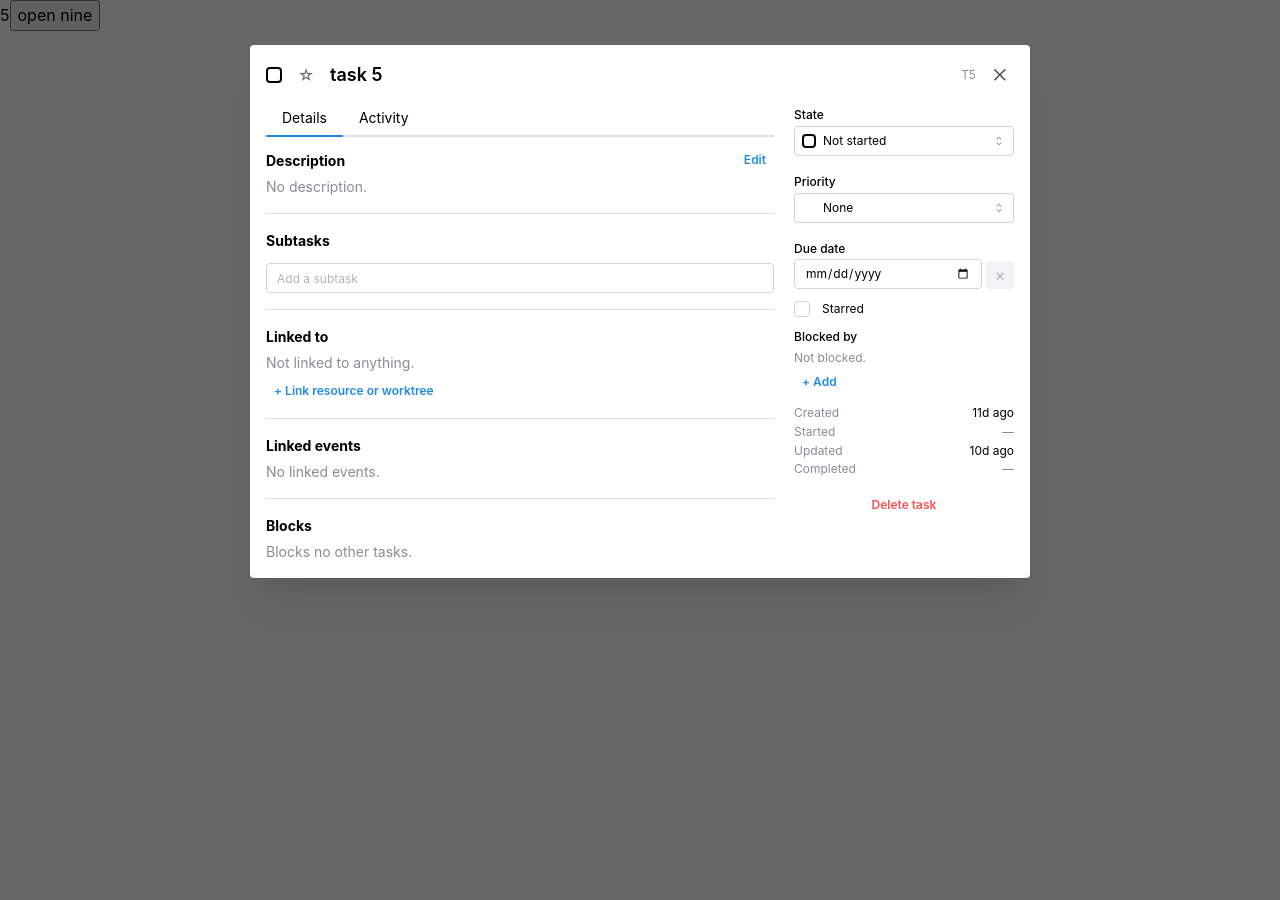
Scenario: TaskDetailModal › saves the title on Enter and shows it at once
This screenshot has width=1280, height=900.
Step 1. Click the button with aria-label "Edit title" → click(356, 75), box [330,61,951,89]
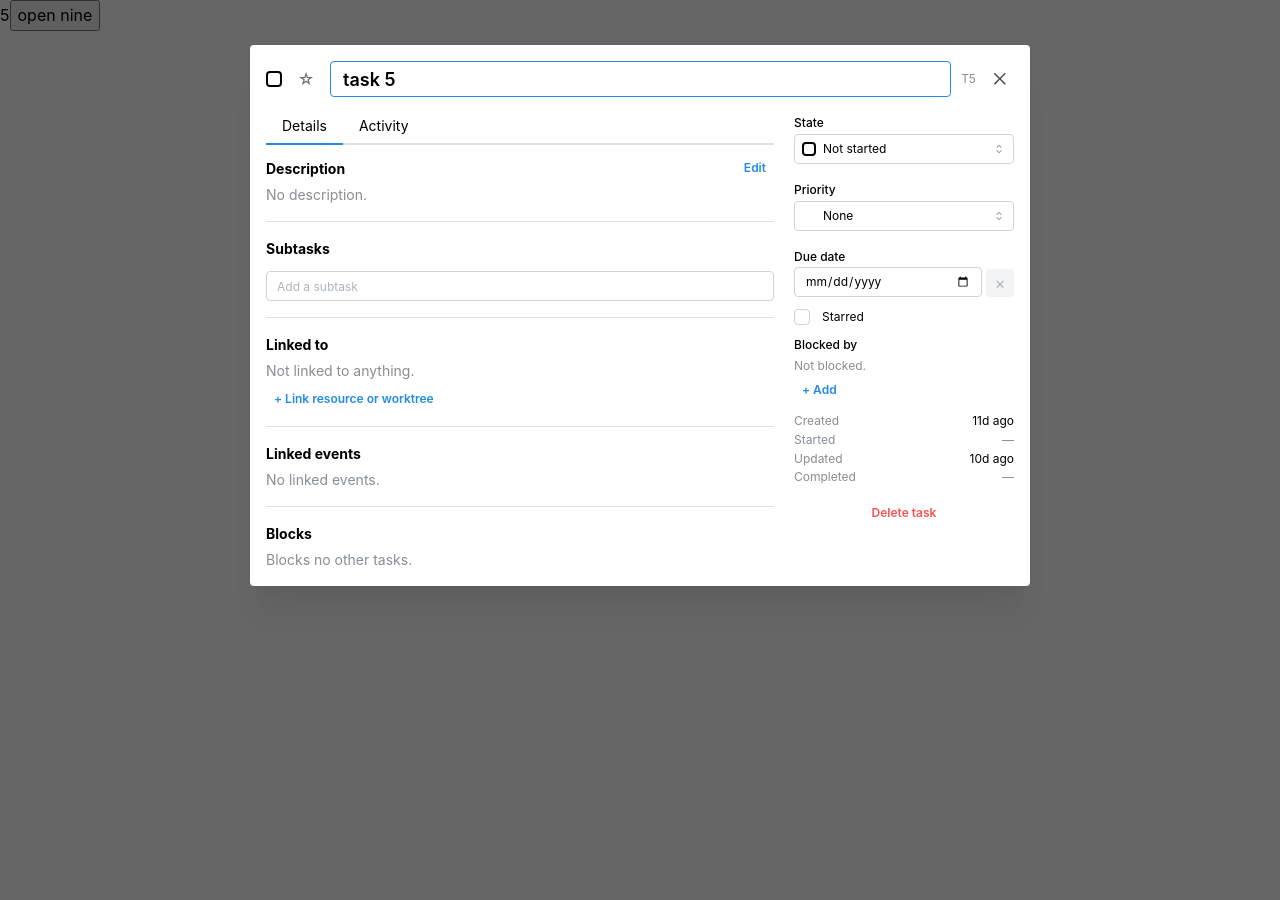
Step 2. Replace the text in the field named "Title" with "Renamed" → (641, 79), box [330,61,951,97]
Then press Enter
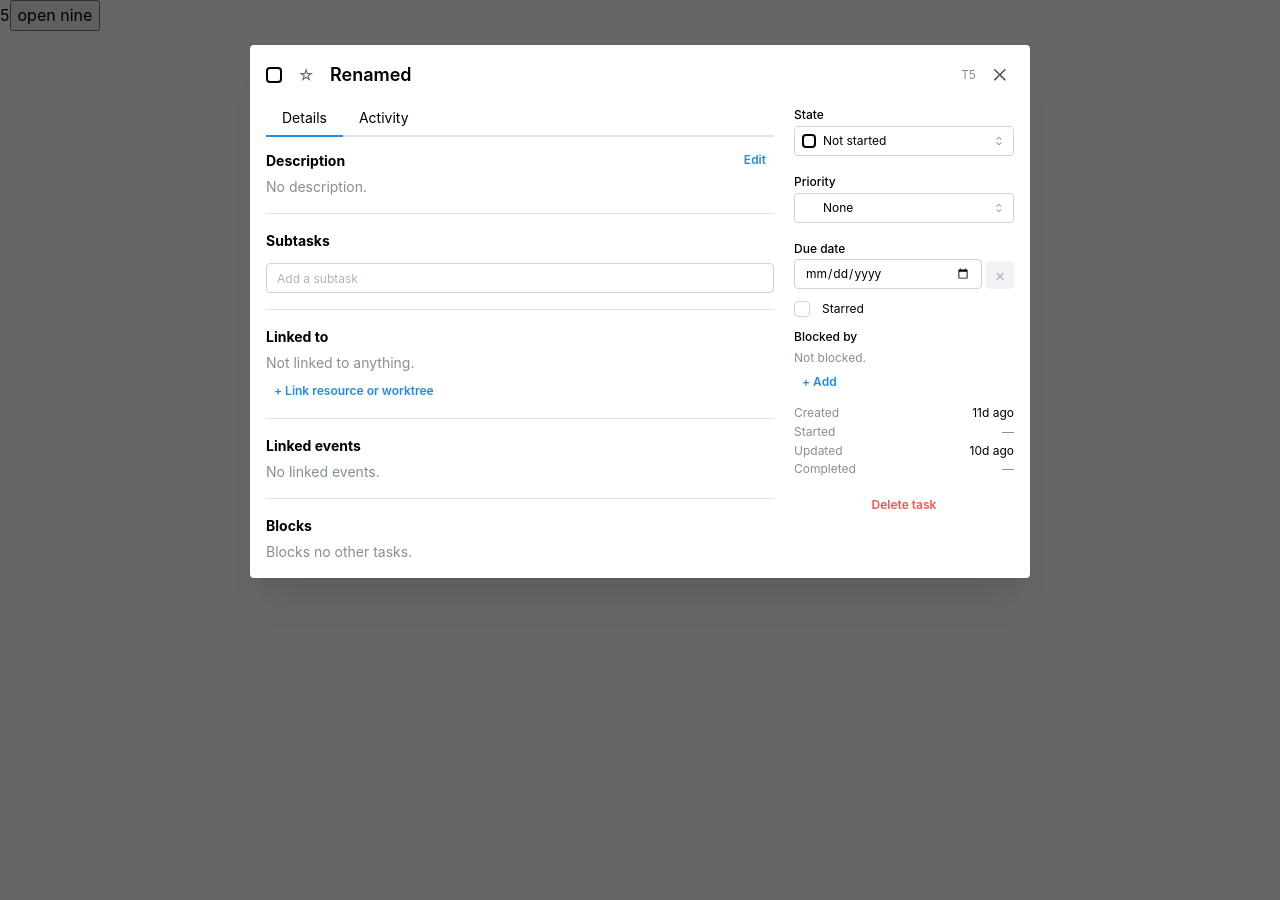
Expected: the button with aria-label "Edit title" reads "Renamed", [330,61,951,89]
